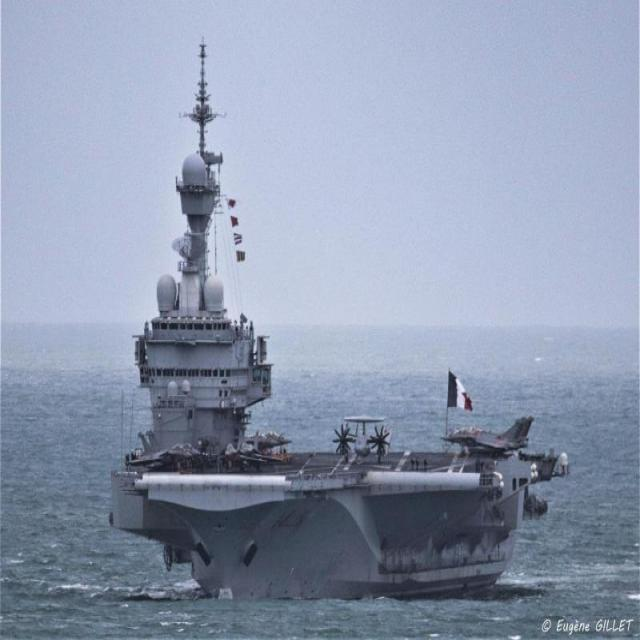Portanaves: (107, 25, 577, 603)
